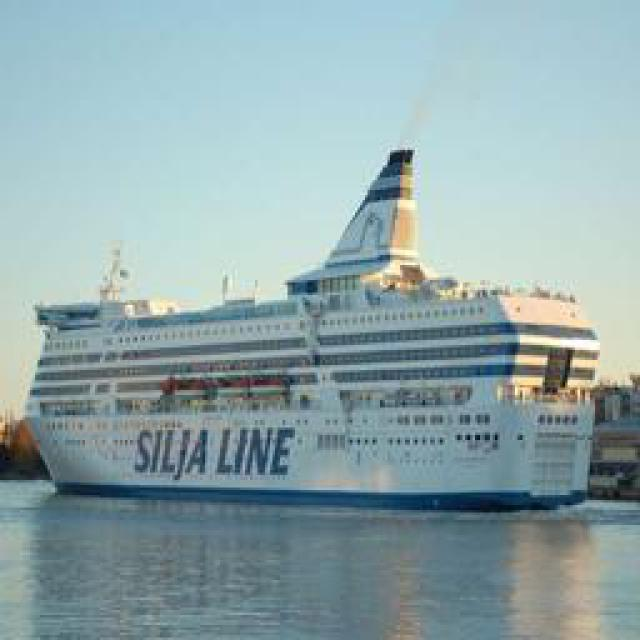Ship: (26, 157, 604, 507)
